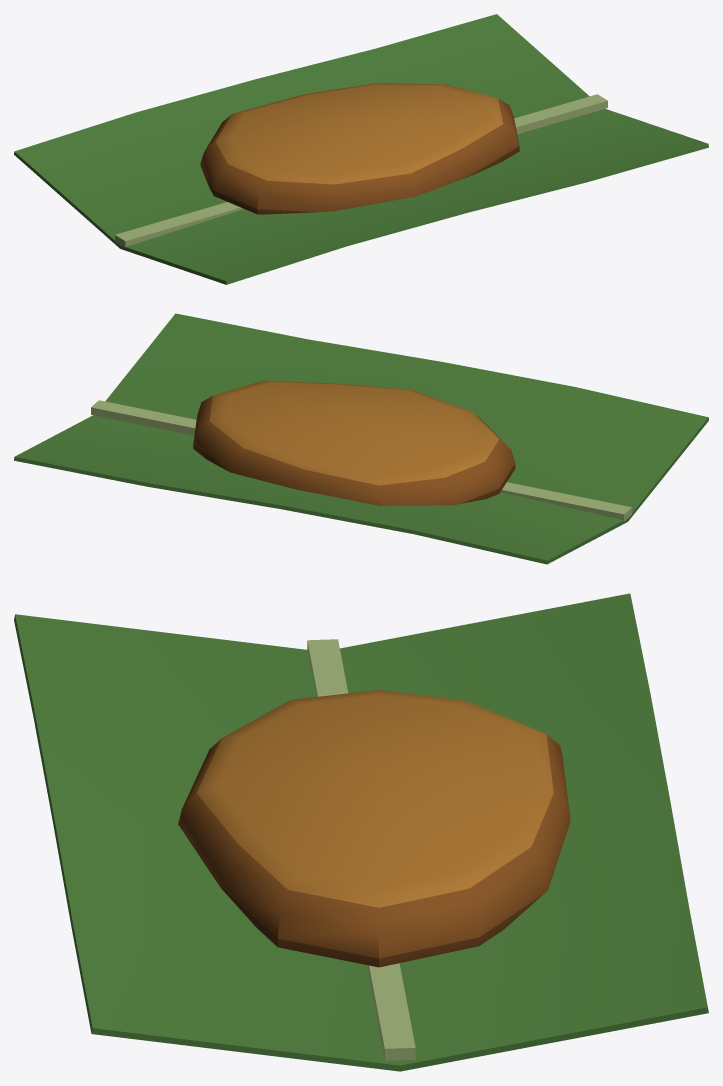
File: cha_ca.glb
The picture shows the model from 3 angles, top to bottom: view 1: azimuth 30°, elevation 25°; view 2: azimuth 150°, elevation 25°; view 3: azimuth 270°, elevation 25°; orthographic projection. The views are drawn at different scales.
Visible parts, largest first — view 1: cha_ca; view 2: cha_ca; view 3: cha_ca.
Part boxes in pixels (x1,y1,x2,y2): cha_ca: [14, 14, 708, 284]; cha_ca: [14, 313, 708, 564]; cha_ca: [14, 593, 708, 1071].
Bounding box in the file's own units: 0.2305 × 0.0249 × 0.1576.
